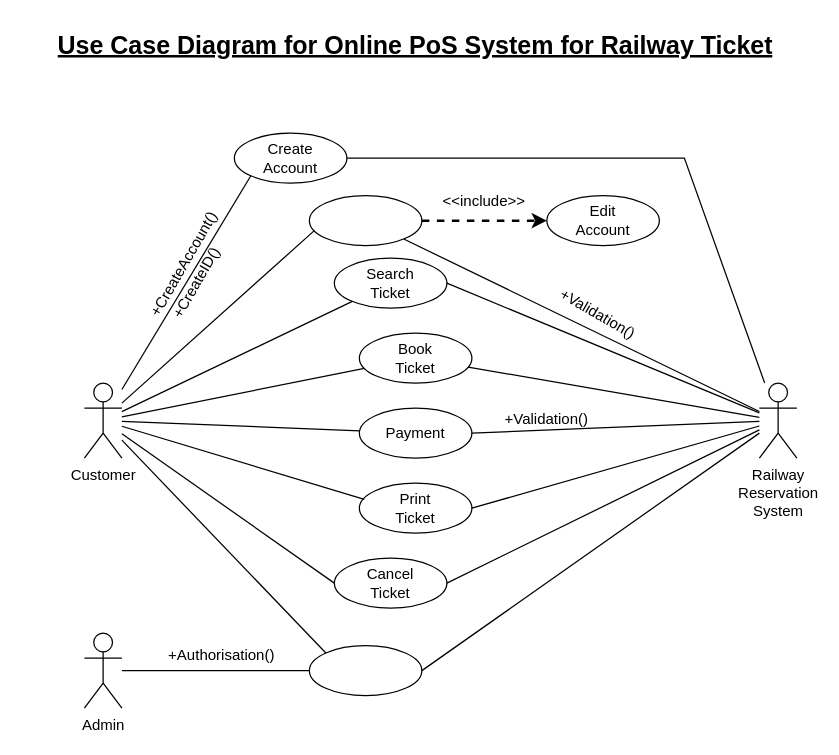
Image size: 839x755. Some labels were removed from this diagram. The shapes that lost their labels are listed below. From the top down, each one's box as (x1, y1, x2, y2) in pixels, then its label:
(308, 194, 422, 246): Sign-In
(308, 644, 422, 696): Refund Money
